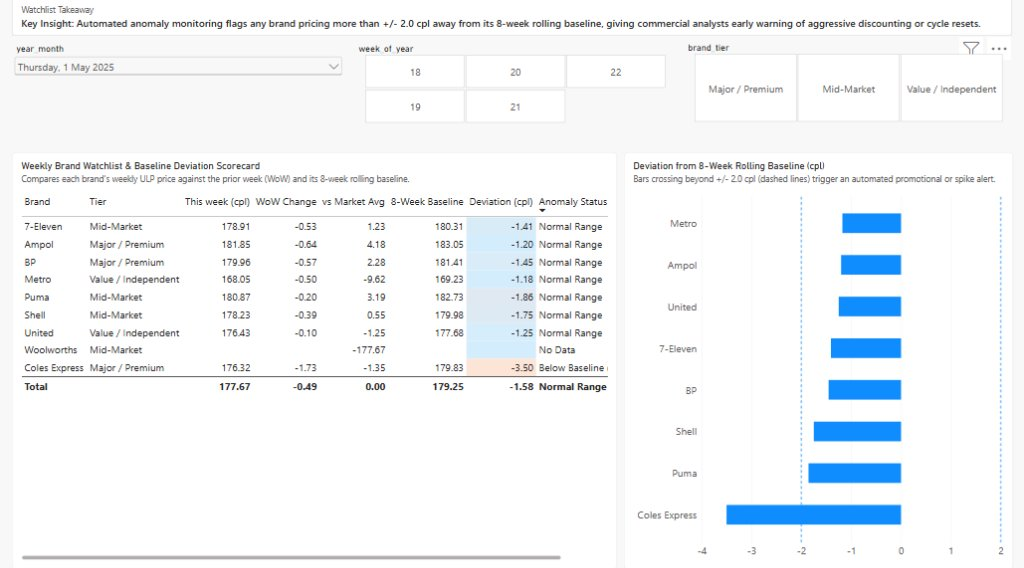

The page's visual inventory and layout, read from the dashboard file:
{"tool":"powerbi","page":{"name":"Weekly Anomaly Watchlist ","canvas":[1920,1080],"ordinal":2},"visuals":[{"type":"cardVisual","fields":{"Data":["_Measures (2).Watchlist Takeaway"]},"box":[25.6,0,1867.4,72.1],"z":0},{"type":"slicer","fields":{"Values":["dim_date.year_month"]},"box":[25.6,86,620.9,148.8],"z":1000},{"type":"slicer","fields":{"Values":["dim_date.week_of_year"]},"box":[665.1,86,600,151.2],"z":2000},{"type":"slicer","fields":{"Values":["dim_brand.brand_tier"]},"box":[1279.1,83.7,614,151.2],"z":3000},{"type":"tableEx","title":"Weekly Brand Watchlist & Baseline Deviation Scorecard","fields":{"Values":["dim_brand.brand_name","dim_brand.brand_tier","_Measures (2).Avg Retail Price (cpl)","_Measures (2).WoW Price Change (cpl)","_Measures (2).Price Spread vs Market Avg (cpl)","_Measures (2).Rolling 8-Week Baseline (cpl)","_Measures (2).Deviation from 8-Week Baseline (cpl)","_Measures (2).Anomaly Status Flag"]},"box":[26,289.7,1129,778],"z":3001},{"type":"clusteredBarChart","title":"Deviation from 8-Week Rolling Baseline (cpl)","fields":{"Category":["dim_brand.brand_name"],"Y":["_Measures (2).Deviation from 8-Week Baseline (cpl)"]},"box":[1168,289.7,726,778],"z":3002}]}

Visuals, with their boxes in screenshot pixels (x1, y1, x2, y2), scaled from the page's 1920x1080 canvas onto the 1024x568 screenshot:
cardVisual - _Measures (2).Watchlist Takeaway: bbox(14, 0, 1010, 38)
slicer - dim_date.year_month: bbox(14, 45, 345, 123)
slicer - dim_date.week_of_year: bbox(355, 45, 675, 125)
slicer - dim_brand.brand_tier: bbox(682, 44, 1010, 124)
"Weekly Brand Watchlist & Baseline Deviation Scorecard" tableEx: bbox(14, 152, 616, 562)
"Deviation from 8-Week Rolling Baseline (cpl)" clusteredBarChart: bbox(623, 152, 1010, 562)
